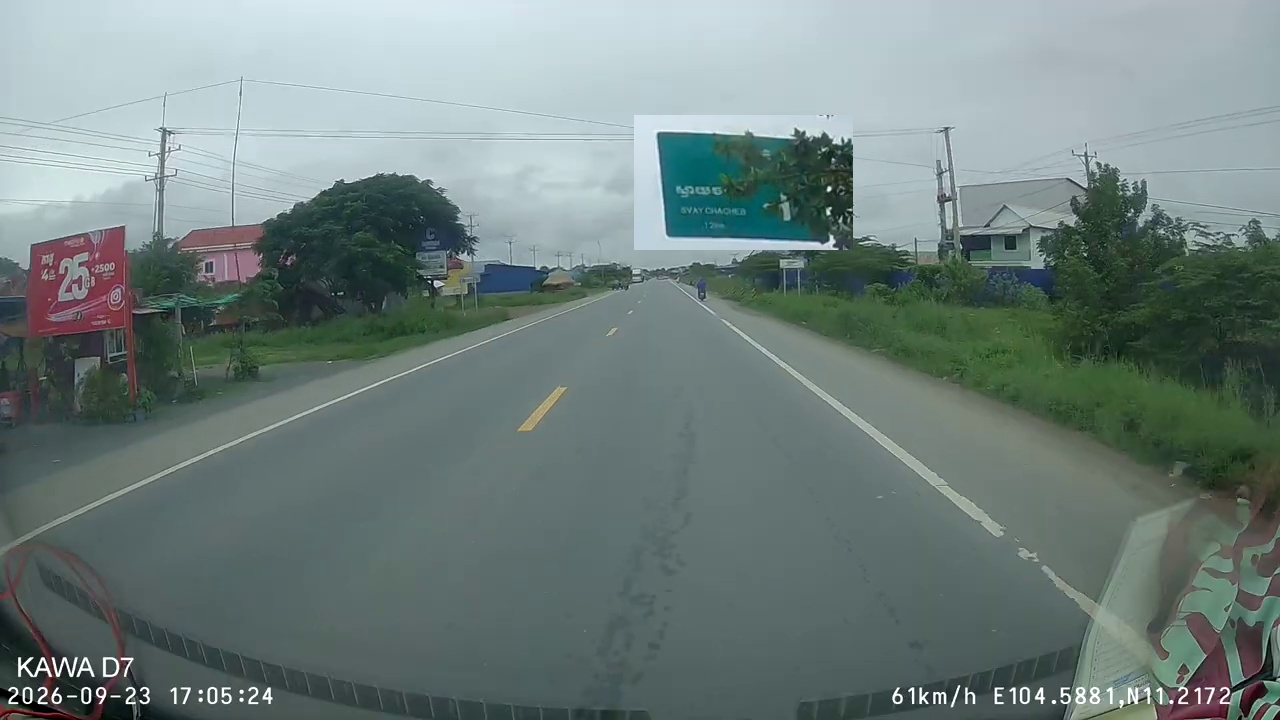direction_sign: (634, 115, 853, 250)
